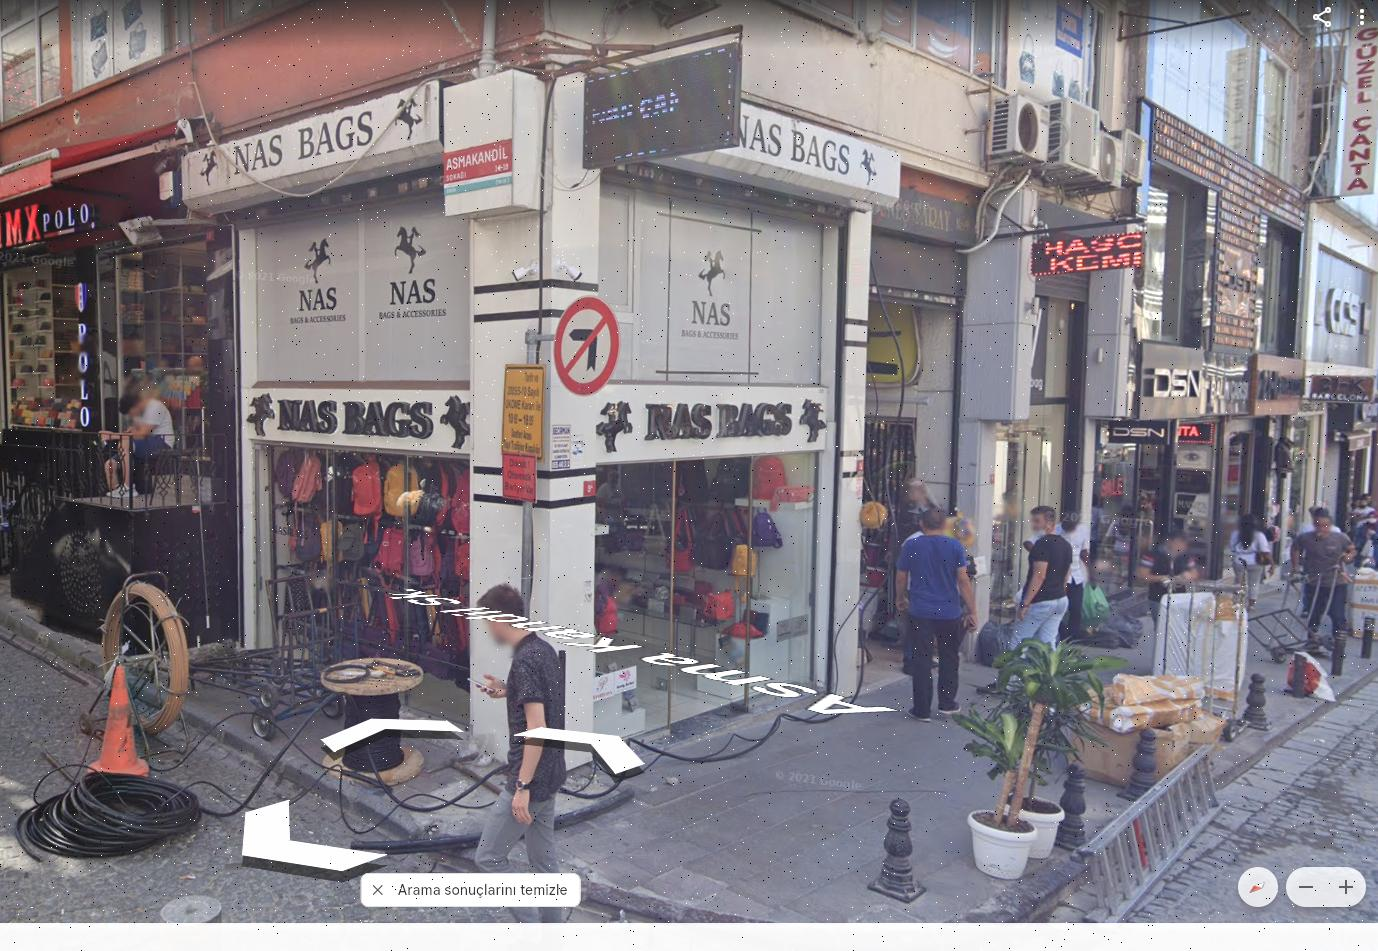leftturnsareforbidden: (558, 300, 620, 389)
